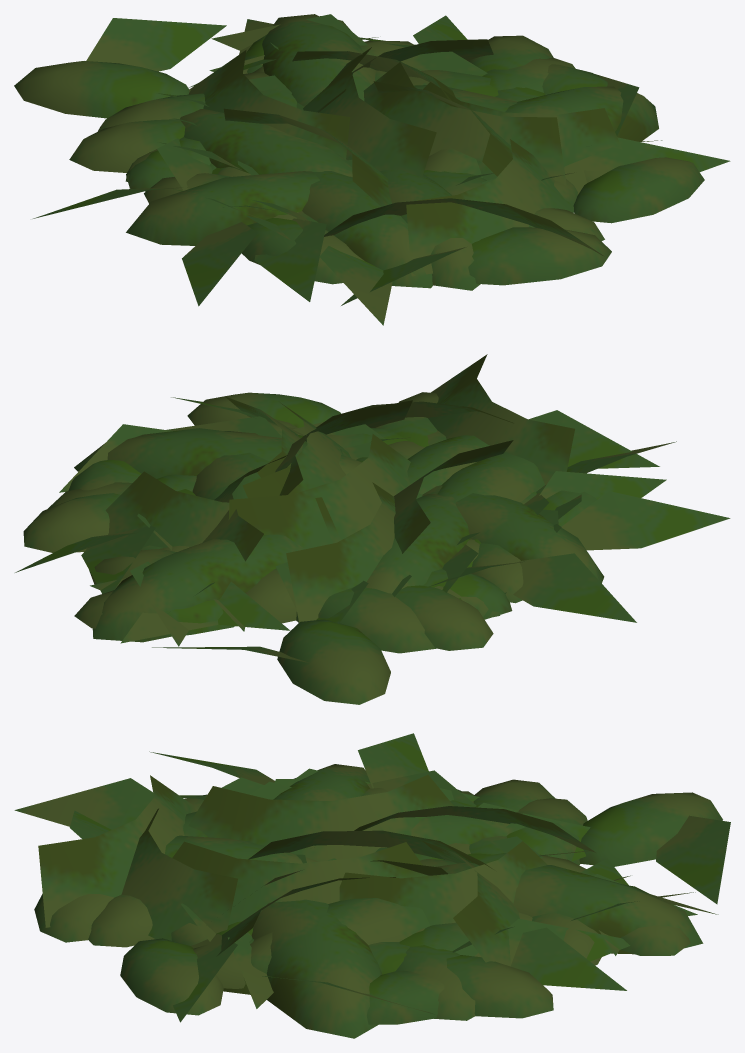
Rendered from Grass1.fbx.
3 renders of one model, top to bottom at view 1: azimuth 30°, elevation 25°; view 2: azimuth 150°, elevation 25°; view 3: azimuth 270°, elevation 25°, orthographic.
Parts seen in each view (by area): view 1: Grass1_LOD0; view 2: Grass1_LOD0; view 3: Grass1_LOD0.
Boxes of the visible parts, x1,y1,x2,y2 form: Grass1_LOD0: (14, 14, 730, 325); Grass1_LOD0: (15, 354, 730, 704); Grass1_LOD0: (14, 733, 730, 1038).
Size of what is drawn, in the model's own units: 1.49 by 1.53 by 0.1653.
